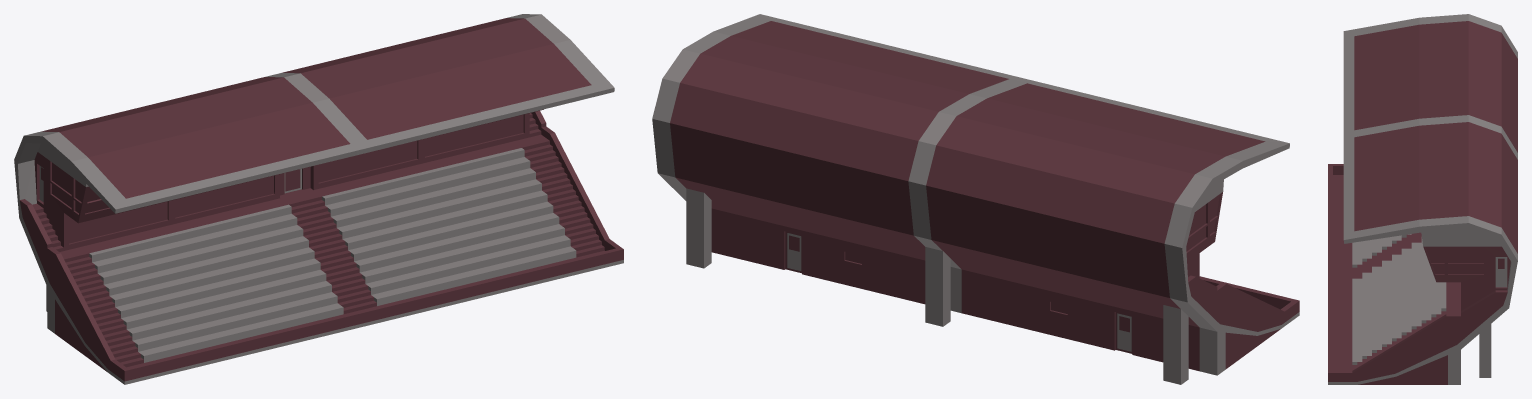
The model's file is racing-tribune-streight.glb.
3 views of the same model, side by side, from view 1: azimuth 30°, elevation 25°; view 2: azimuth 150°, elevation 25°; view 3: azimuth 270°, elevation 25° (orthographic). The views are drawn at different scales.
Parts seen in each view (by area): view 1: tribune-streight; view 2: tribune-streight; view 3: tribune-streight.
Part boxes in pixels (x1,y1,x2,y2): tribune-streight: (14,14,623,384); tribune-streight: (652,14,1299,384); tribune-streight: (1328,14,1517,384).
Bounding box in the file's own units: 30 × 10.84 × 11.52.
